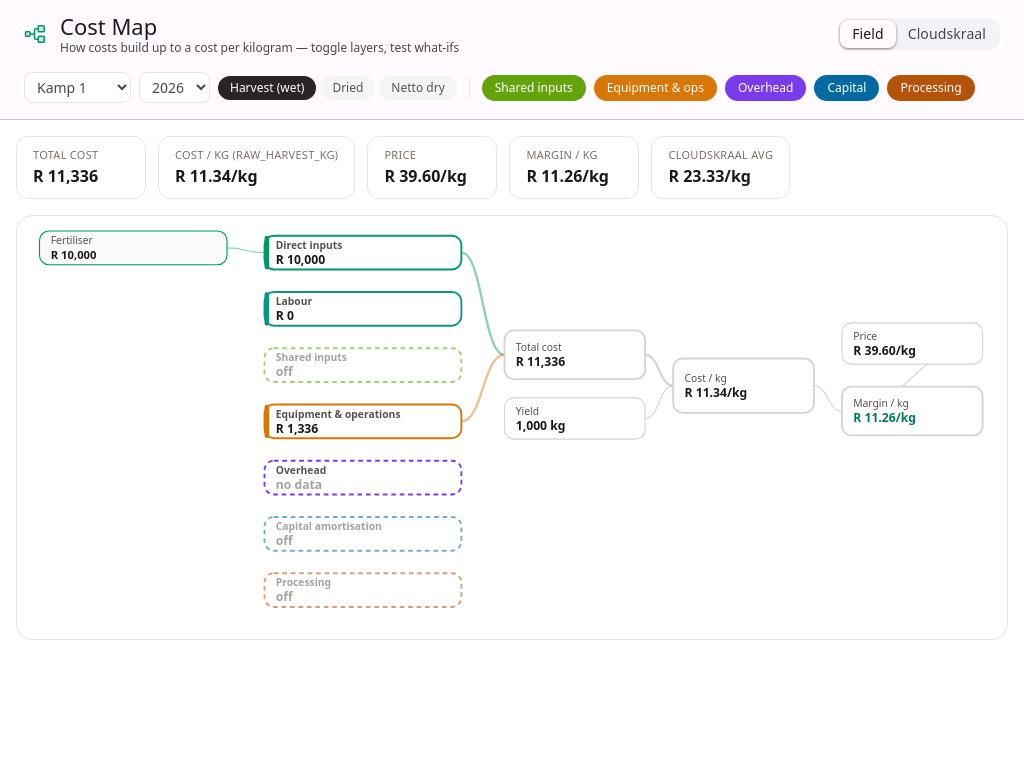
it: CostMapPage › farm scope shows the per-field roll-up table
Expected: the picture with test id "cost-node-map" is shown, [17, 216, 1007, 639]
Click the button "Cloudskraal". click: point(947, 34)
box: [896, 20, 998, 48]
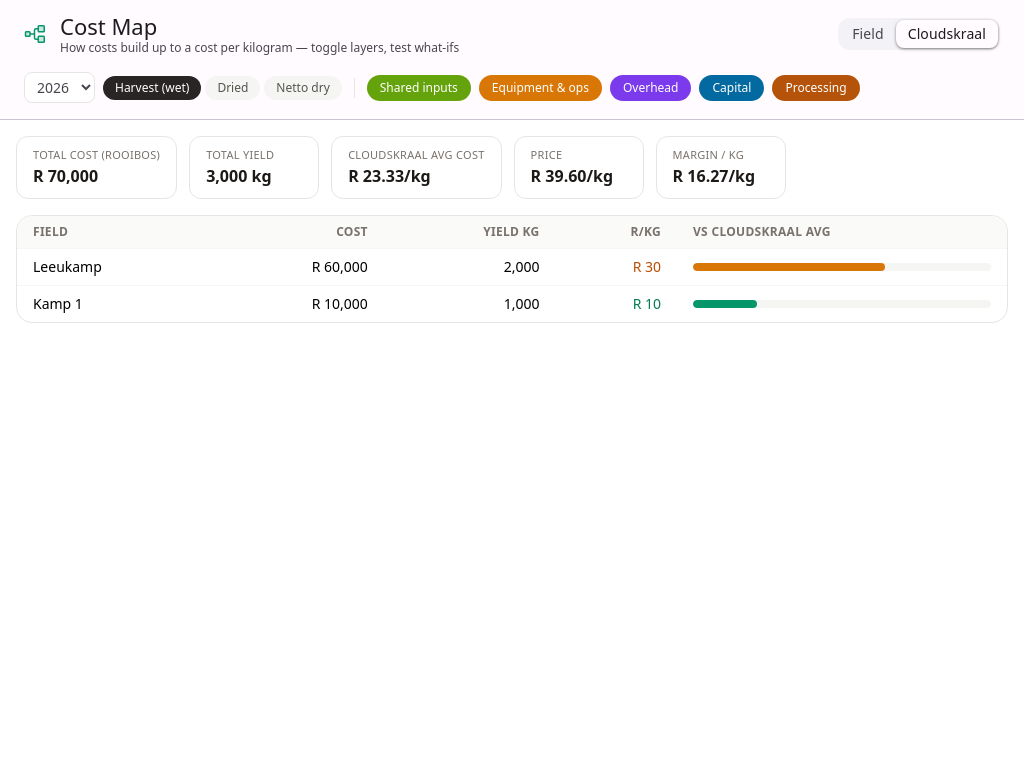
Now the column heading "vs Cloudskraal avg" is shown, box [677, 216, 1007, 248]
Now the text "Leeukamp" is shown, box [17, 248, 213, 285]
Now the text "Cloudskraal avg cost" is shown, box [348, 147, 485, 164]
